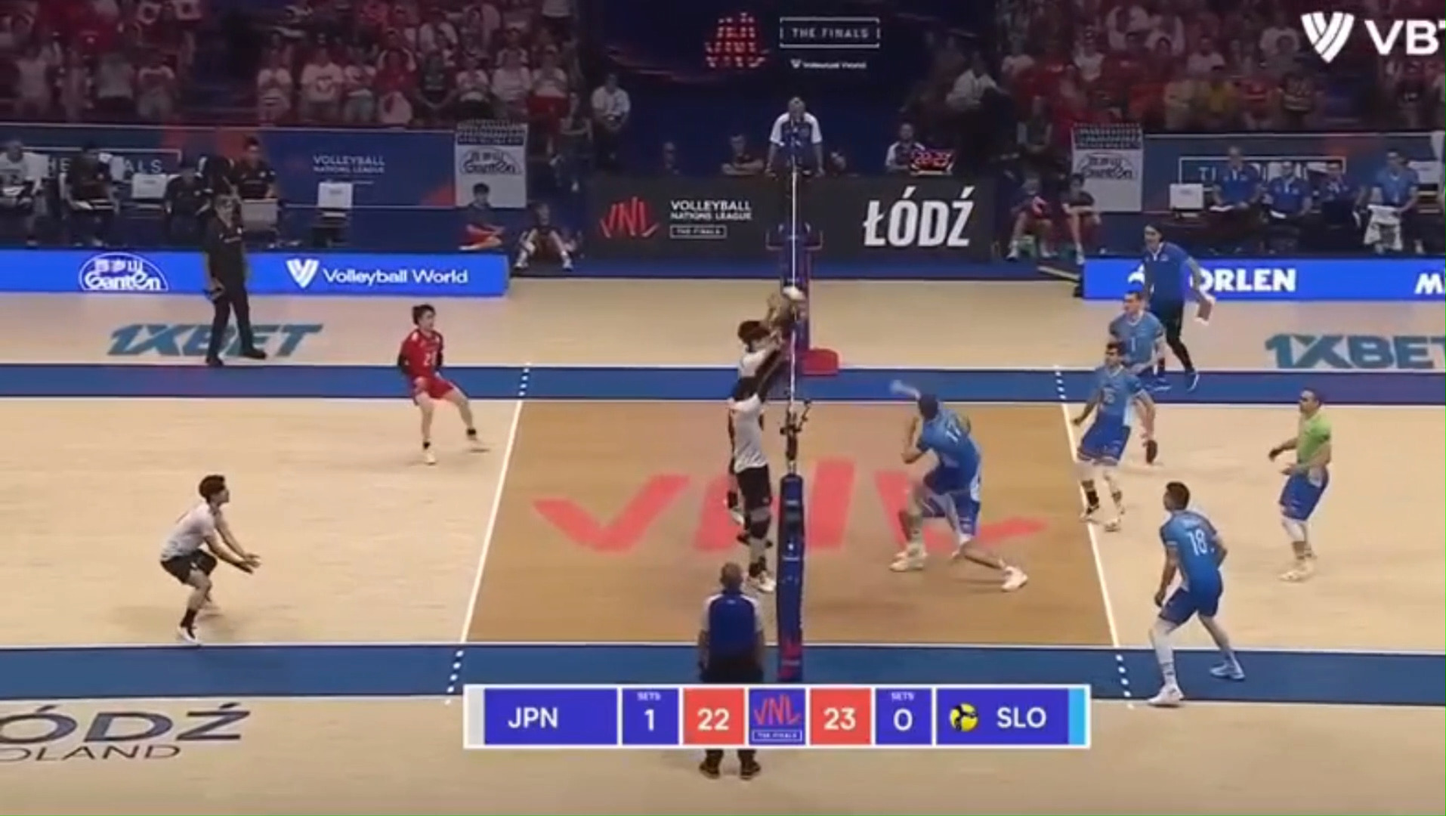ball: (782, 285, 803, 300)
player: (890, 385, 1027, 591), (1147, 481, 1244, 706), (1072, 338, 1152, 529), (1268, 389, 1332, 582), (1108, 292, 1163, 378)
player 1: (159, 474, 260, 644), (397, 304, 483, 463), (729, 379, 773, 591), (737, 301, 790, 379)
referee: (1136, 226, 1213, 388), (202, 195, 267, 366), (765, 97, 823, 251), (698, 563, 765, 682)
